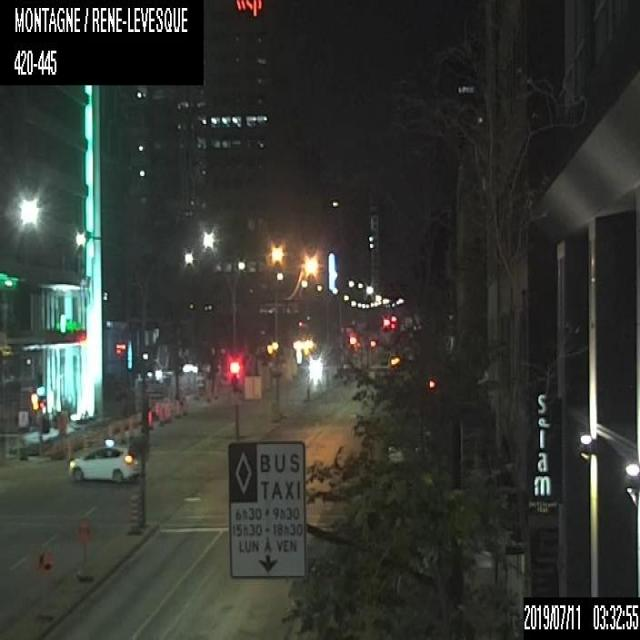construction: (36, 549, 56, 616), (75, 517, 94, 583), (127, 488, 138, 531), (127, 415, 134, 438), (145, 408, 152, 431), (83, 429, 90, 451), (120, 418, 127, 440), (163, 403, 169, 420), (154, 403, 160, 420), (182, 396, 187, 413), (174, 398, 179, 414)
vehicle: (66, 440, 139, 485)
